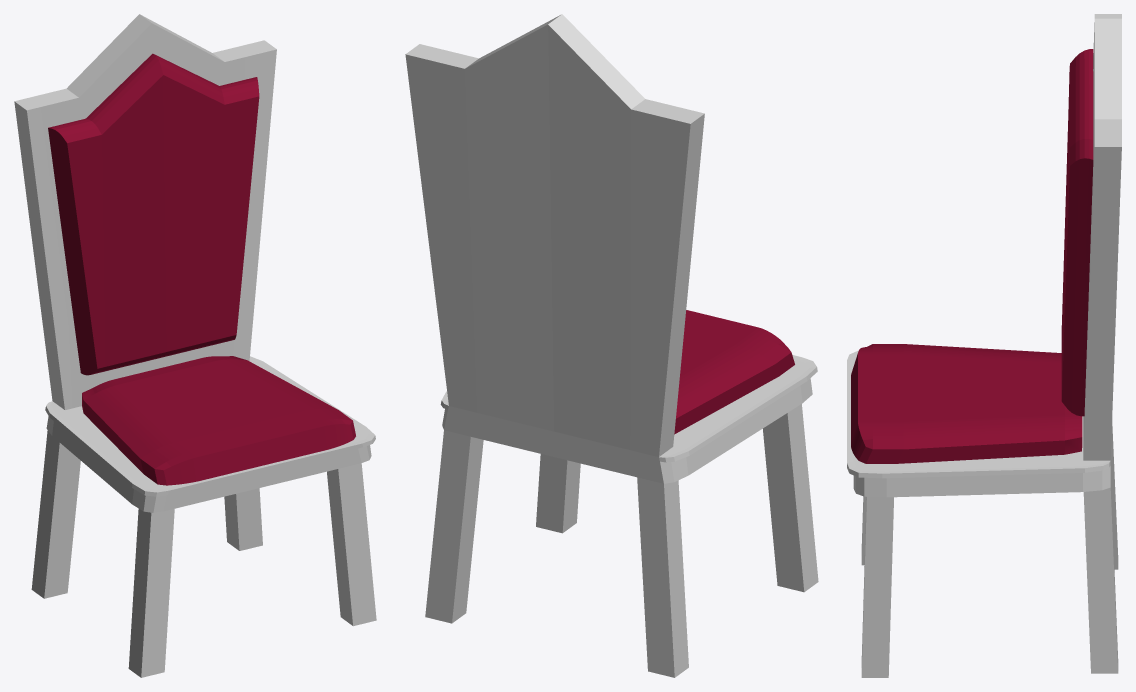
The model's file is Chair.fbx.
3 renders of one model, left to right at view 1: azimuth 30°, elevation 25°; view 2: azimuth 150°, elevation 25°; view 3: azimuth 270°, elevation 25°, orthographic. The views are drawn at different scales.
Visible parts, largest first — view 1: FancyChair_Prefab; view 2: FancyChair_Prefab; view 3: FancyChair_Prefab.
Part boxes in pixels (x1,y1,x2,y2): FancyChair_Prefab: (14,14,376,677); FancyChair_Prefab: (405,14,818,677); FancyChair_Prefab: (847,14,1121,677).
Size of the model in its own units: 0.8506 by 1.78 by 0.7433.
